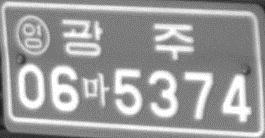0: (17, 62, 45, 110)
3: (146, 68, 179, 118)
4: (221, 73, 252, 123)
5: (113, 67, 144, 117)
6: (49, 63, 79, 112)
7: (183, 70, 214, 121)
광주_D: (61, 18, 194, 60)
마: (80, 72, 109, 107)
영: (14, 13, 50, 55)
